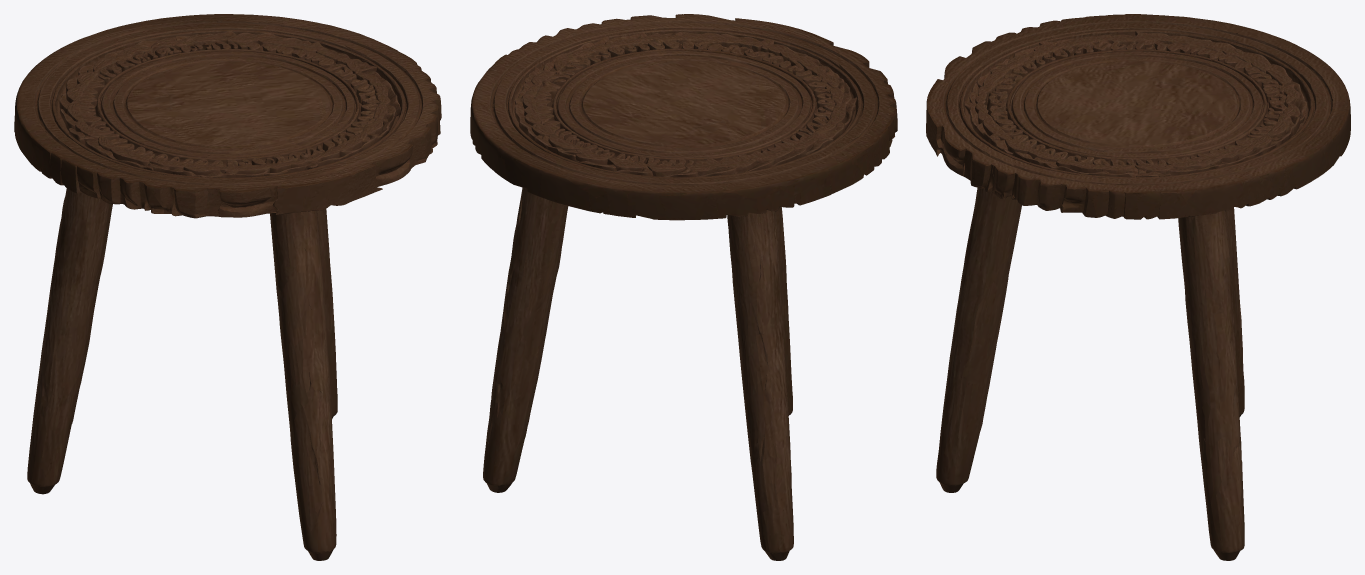
Rendered from daxtanar-solid-wood-round-coffee-table-for-living-room-handm.glb.
3 views of the same model, side by side, from view 1: azimuth 30°, elevation 25°; view 2: azimuth 150°, elevation 25°; view 3: azimuth 270°, elevation 25° (orthographic).
Visible parts, largest first — view 1: Mesh_0; view 2: Mesh_0; view 3: Mesh_0.
Boxes of the visible parts, left/top/right/bottom form: Mesh_0: left=14, top=14, right=441, bottom=560; Mesh_0: left=470, top=14, right=897, bottom=560; Mesh_0: left=926, top=14, right=1350, bottom=560.
Size of the model in its own units: 1.89 by 1.9 by 1.89.
1 material, 1 textured.
